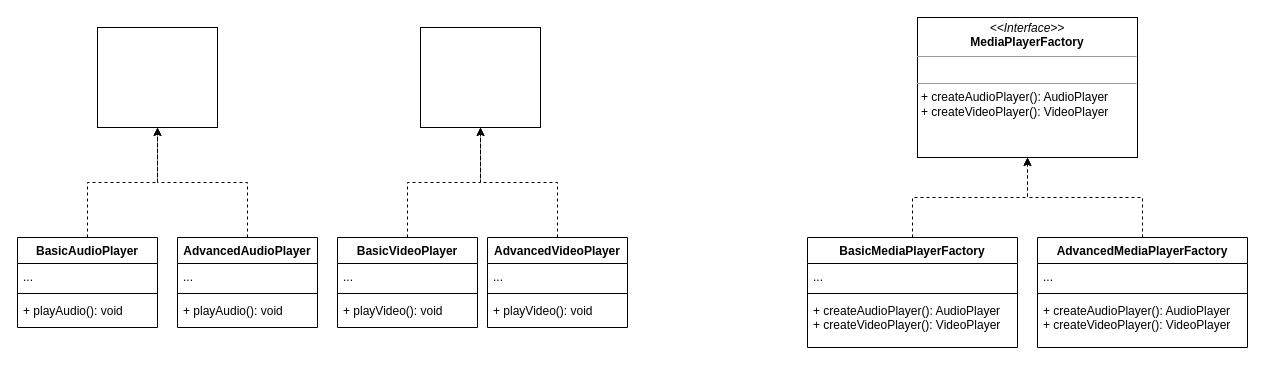
Image size: 1265x368. Some labels were removed from this diagram. The centre of each missing label's shape, as x and y in pixels:
"<<Interface>> AudioPlayer + playAudio(): void" belongs at pixel 157 77.
"<<Interface>> VideoPlayer + playVideo(): void" belongs at pixel 480 77.
